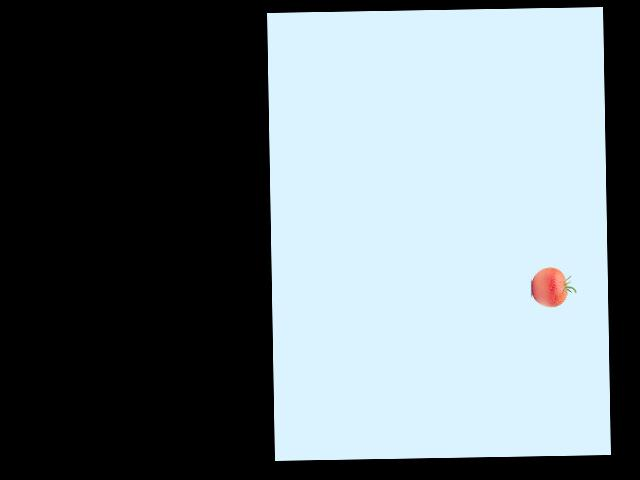tomato: (531, 266, 567, 307)
